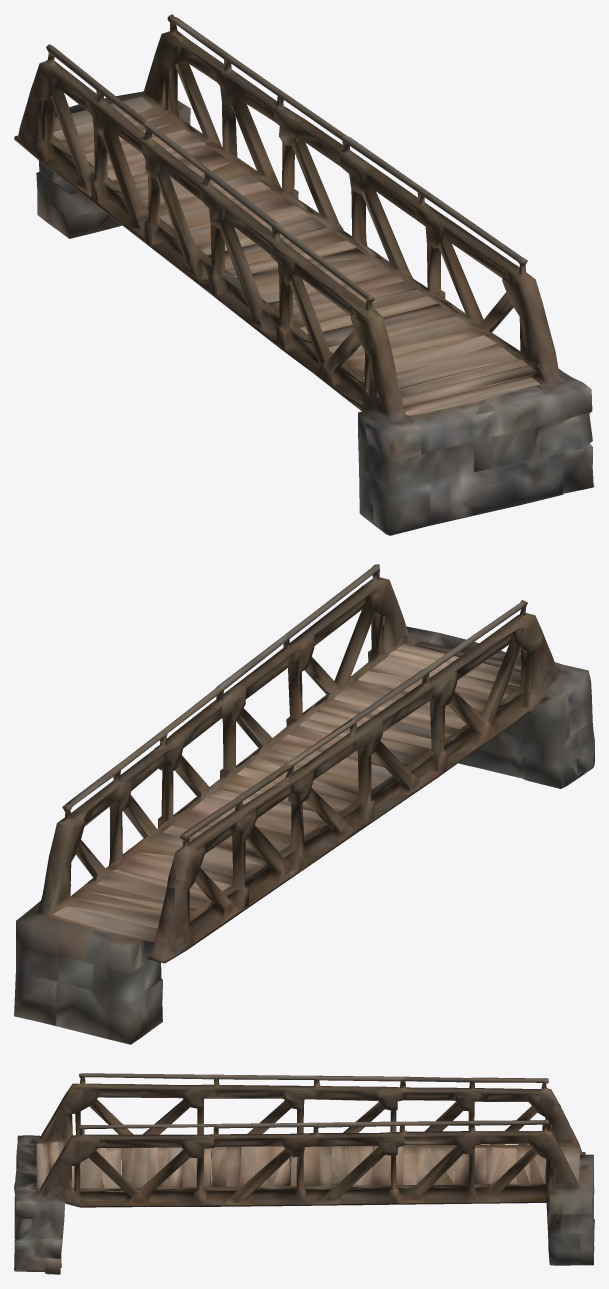
Rendered from bridge_truss.glb.
The picture shows the model from 3 angles, top to bottom: view 1: azimuth 30°, elevation 25°; view 2: azimuth 150°, elevation 25°; view 3: azimuth 270°, elevation 25°; orthographic projection. The views are drawn at different scales.
Visible parts, largest first — view 1: LO.001; view 2: LO.001; view 3: LO.001.
Boxes of the visible parts, x1,y1,x2,y2 form: LO.001: (14,14,594,535); LO.001: (14,564,594,1044); LO.001: (14,1073,594,1274).
Bounding box in the file's own units: 3.41 × 3.23 × 12.
1 material, 1 textured.
